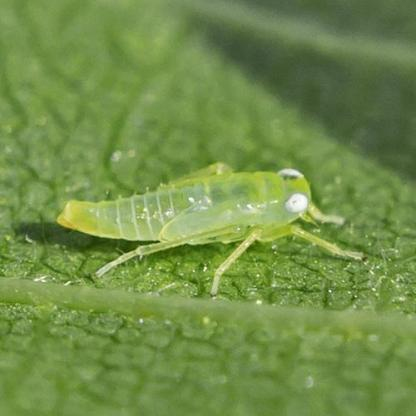green-leafhopper: (67, 168, 320, 246)
